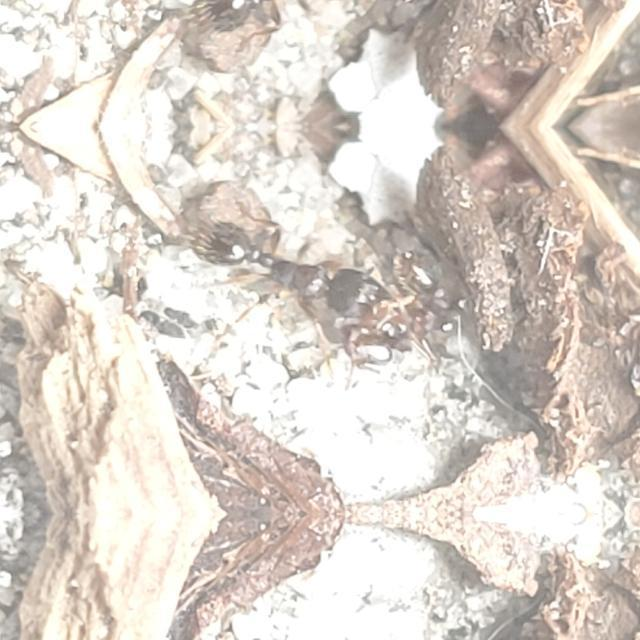Tetramorium: (188, 191, 432, 355), (187, 0, 430, 60)
